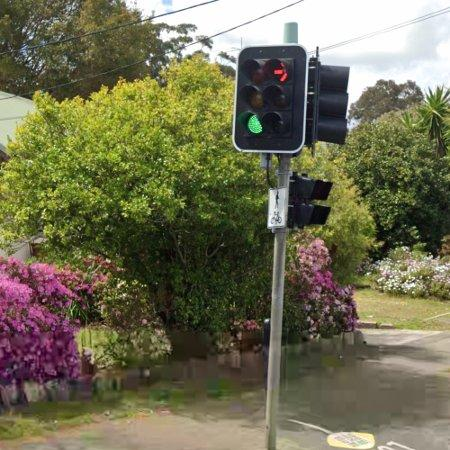traffic lights: (232, 42, 310, 154), (308, 55, 349, 150)
